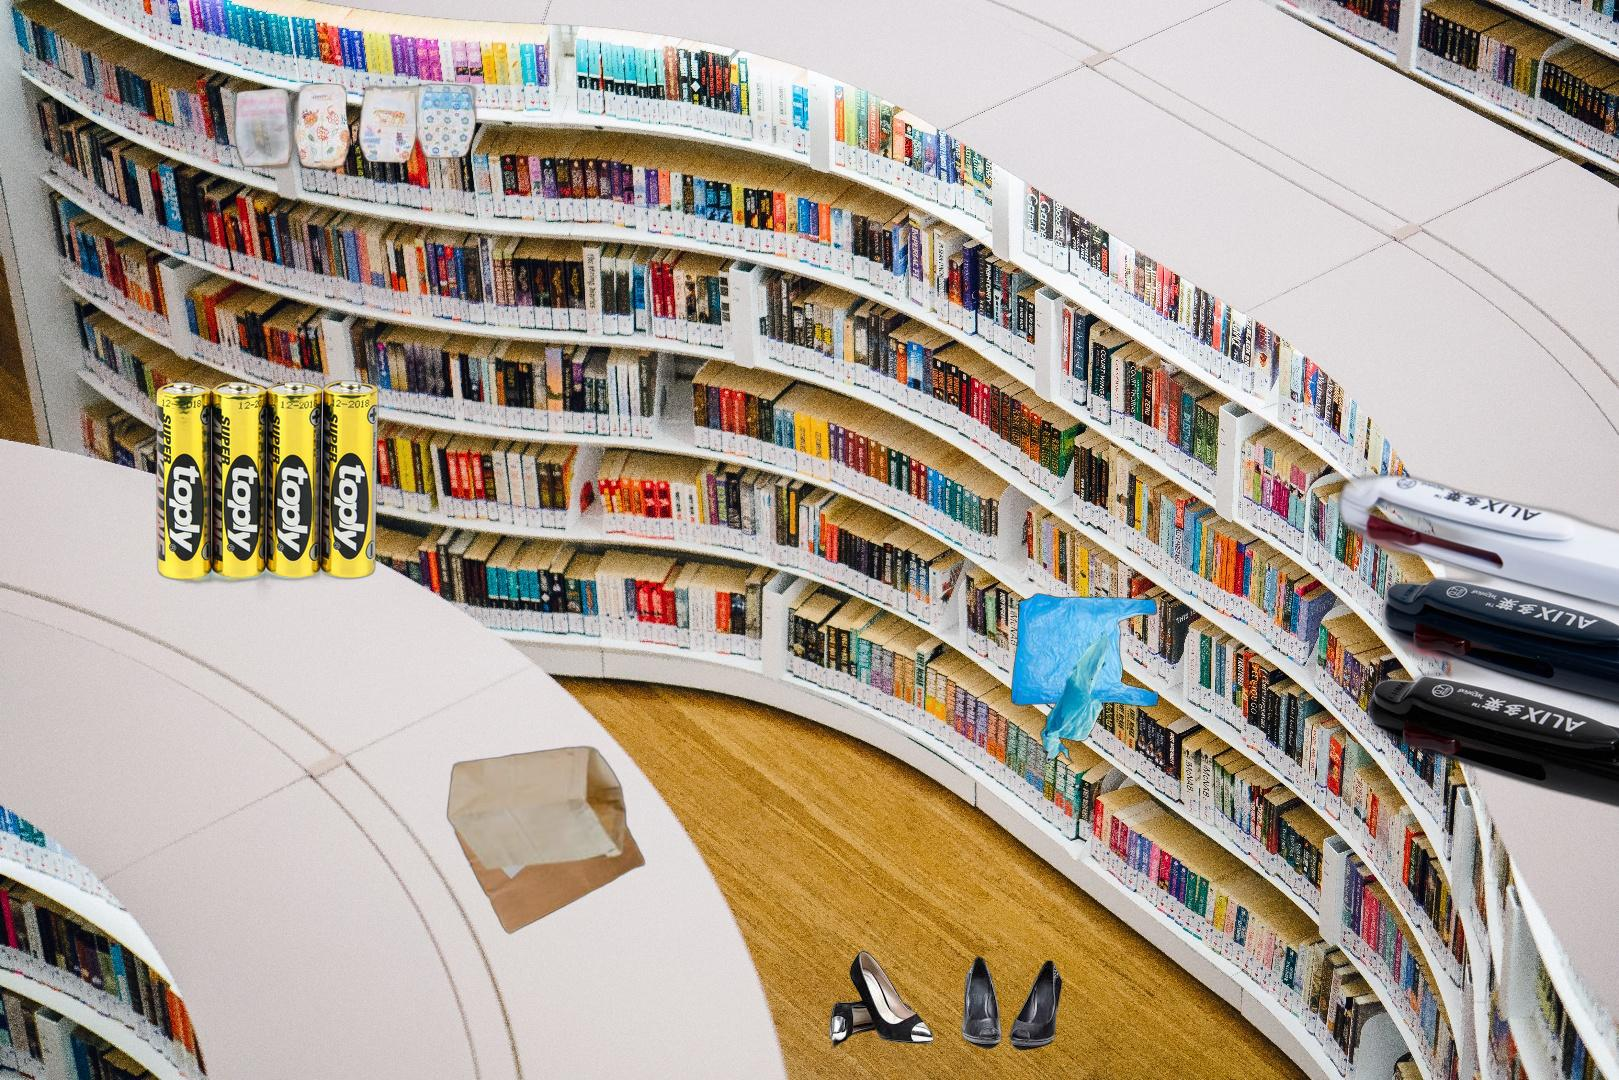battery: (142, 378, 381, 601)
paper-bag: (445, 742, 649, 937)
penholder: (1330, 469, 1619, 912)
plastic-bag: (1008, 589, 1162, 767)
plastic-bottles: (1617, 142, 1619, 376)
shoes: (826, 946, 1064, 1053)
trash: (221, 77, 497, 260)
